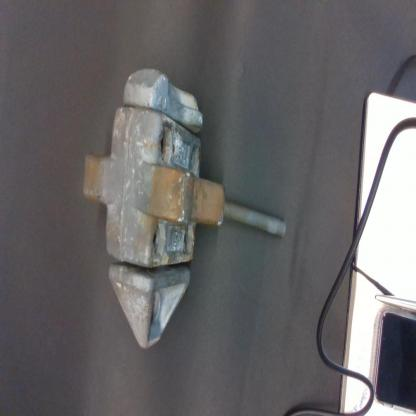Twistlock: (82, 62, 290, 352)
